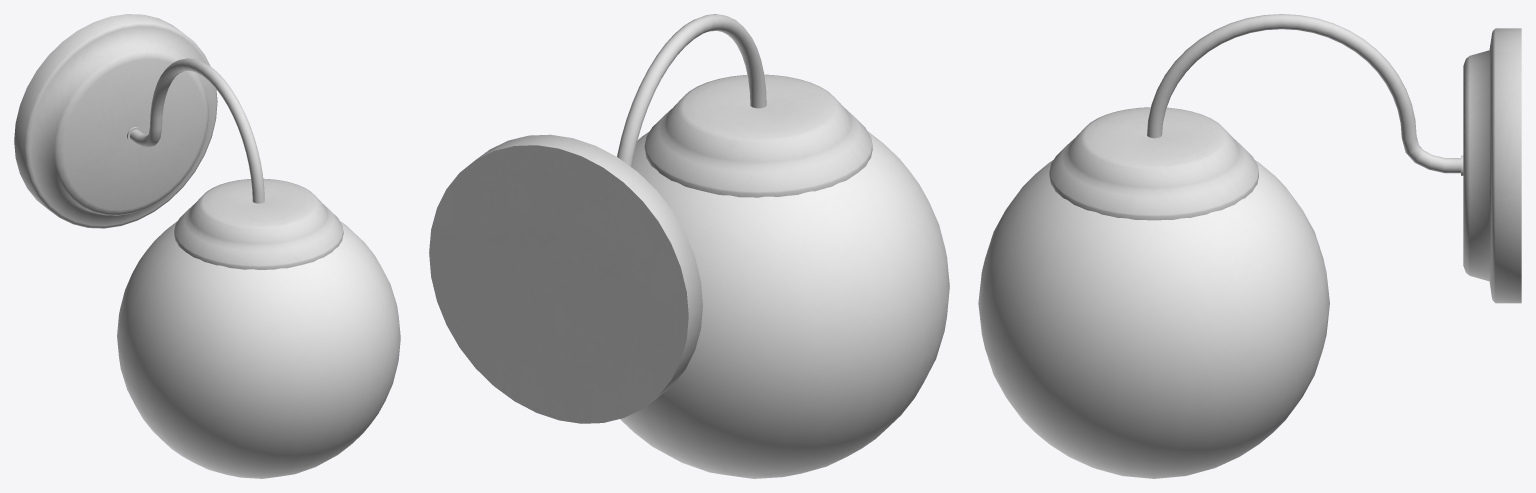
File: wall_light.glb
The picture shows the model from 3 angles, left to right: view 1: azimuth 30°, elevation 25°; view 2: azimuth 150°, elevation 25°; view 3: azimuth 270°, elevation 25°; orthographic projection. The views are drawn at different scales.
Visible parts, largest first — view 1: WallLamp; view 2: WallLamp; view 3: WallLamp.
Boxes of the visible parts, box(x1,y1,x2,y2) form: WallLamp: box(14, 14, 400, 478); WallLamp: box(429, 14, 949, 478); WallLamp: box(978, 14, 1521, 478).
Bounding box in the file's own units: 0.15 × 0.2108 × 0.2317.
1 material, 1 textured.
